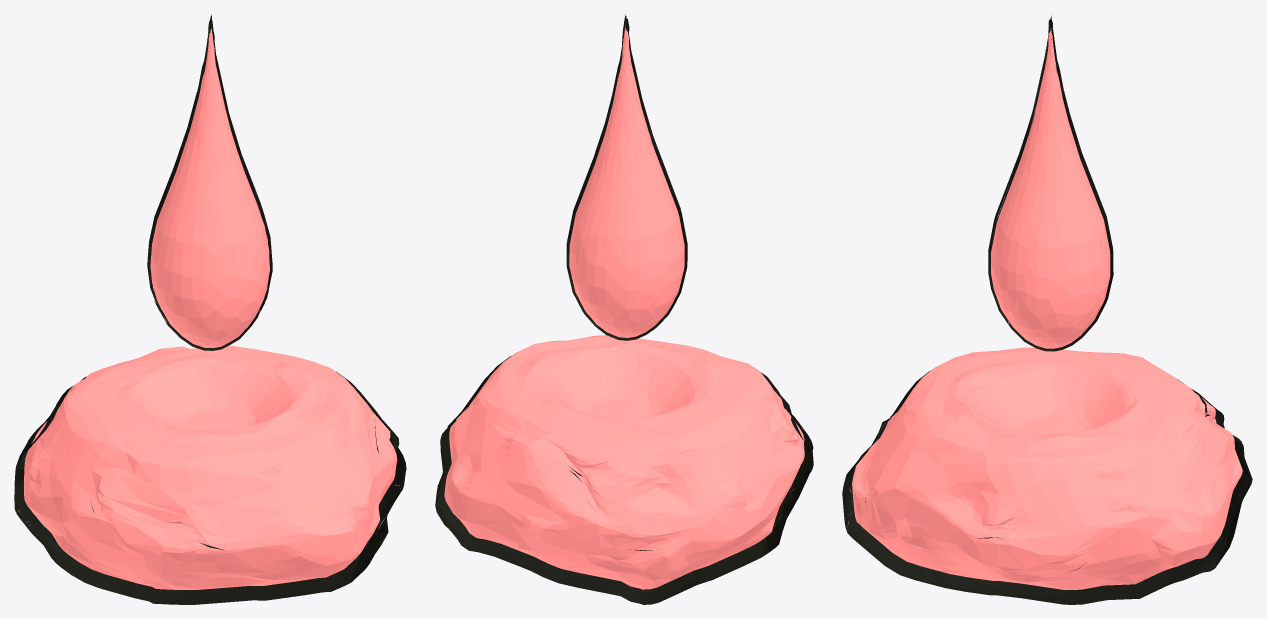
Rendered from df_v2_torch_or_soul_light_f_a.glb.
3 renders of one model, left to right at view 1: azimuth 30°, elevation 25°; view 2: azimuth 150°, elevation 25°; view 3: azimuth 270°, elevation 25°, orthographic. The views are drawn at different scales.
Visible parts, largest first — view 1: torch_or_soul_light_f_mesh_01, torch_or_soul_light_f_mesh_01_ink_outline; view 2: torch_or_soul_light_f_mesh_01, torch_or_soul_light_f_mesh_01_ink_outline; view 3: torch_or_soul_light_f_mesh_01, torch_or_soul_light_f_mesh_01_ink_outline.
Boxes of the visible parts, x1,y1,x2,y2 form: torch_or_soul_light_f_mesh_01: [24, 28, 397, 589]; torch_or_soul_light_f_mesh_01_ink_outline: [14, 14, 406, 604]; torch_or_soul_light_f_mesh_01: [444, 27, 804, 589]; torch_or_soul_light_f_mesh_01_ink_outline: [435, 15, 813, 604]; torch_or_soul_light_f_mesh_01: [852, 28, 1242, 589]; torch_or_soul_light_f_mesh_01_ink_outline: [842, 14, 1252, 604].
Size of the model in its own units: 0.6938 by 1.11 by 0.7354.
